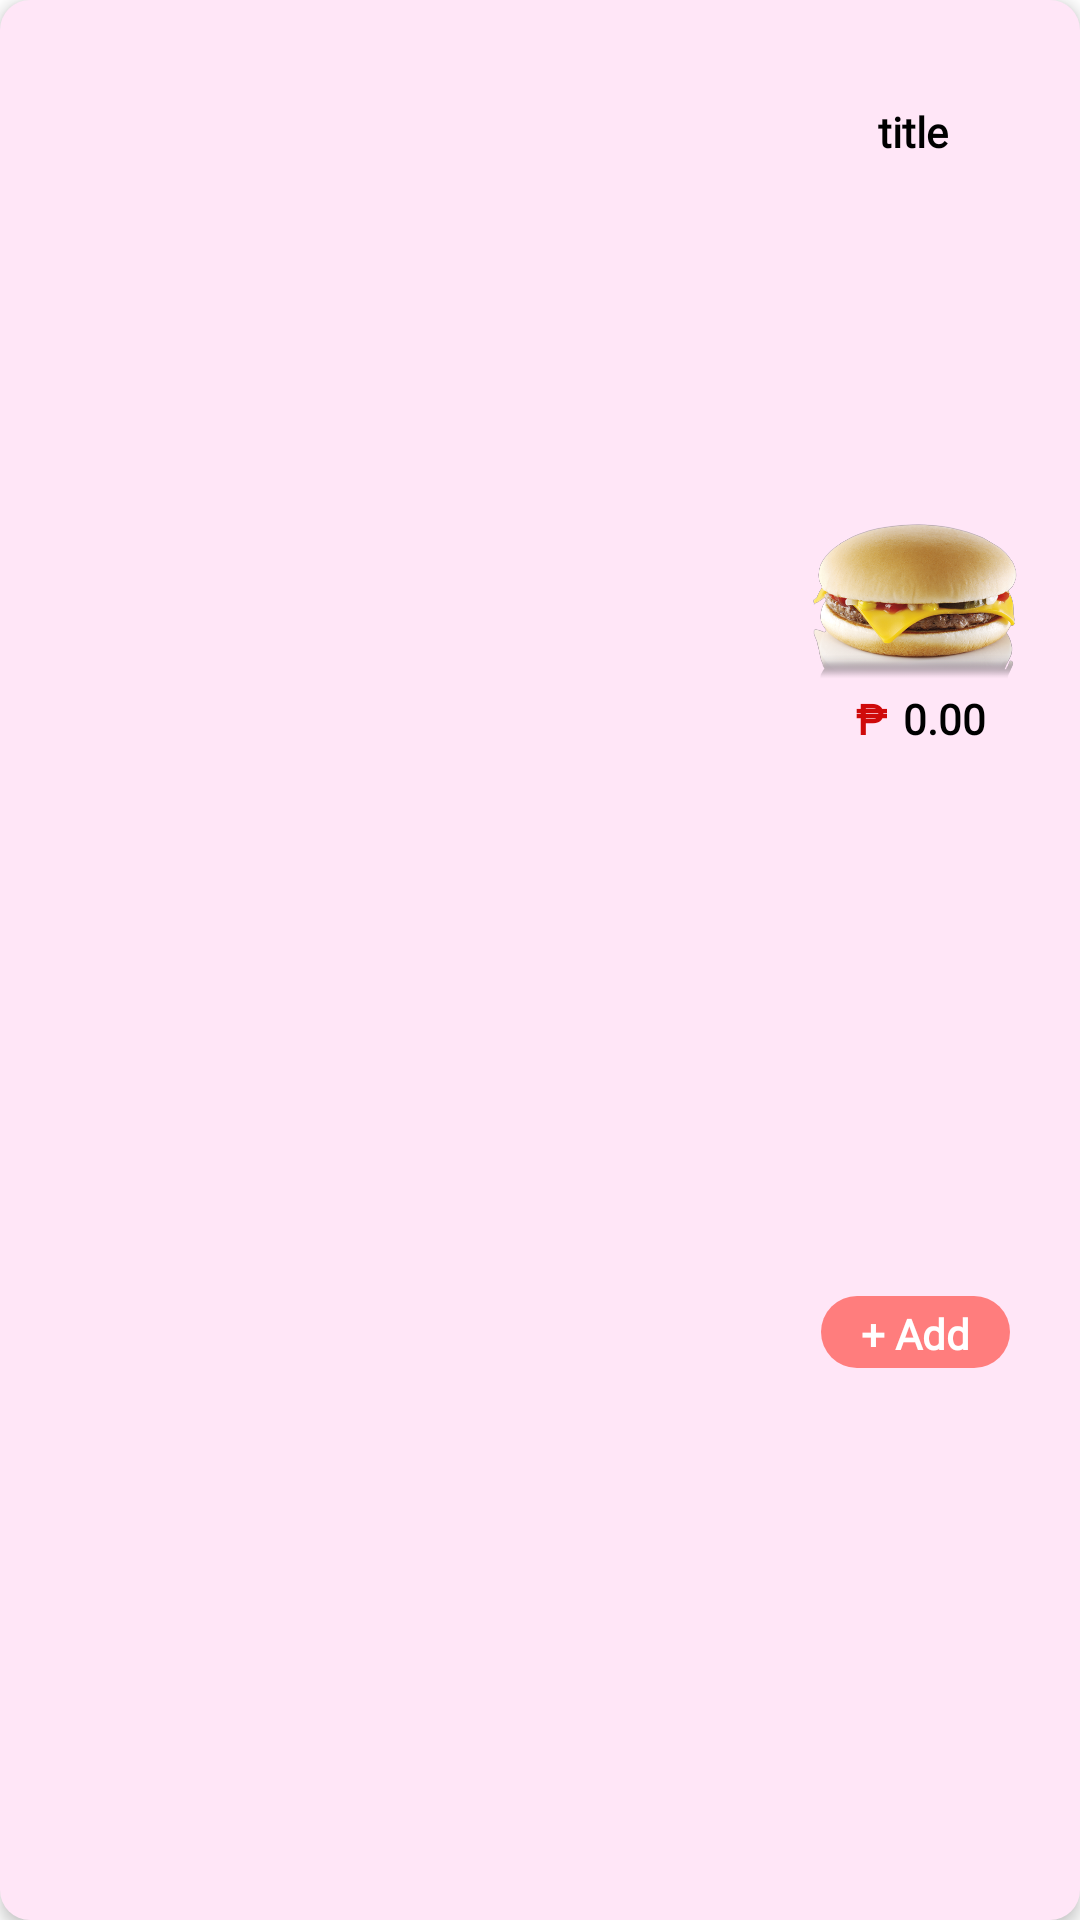

Where to tap for icons on this 1080px×1920px app screen, as point (x, y):
cburger: point (914, 599)
